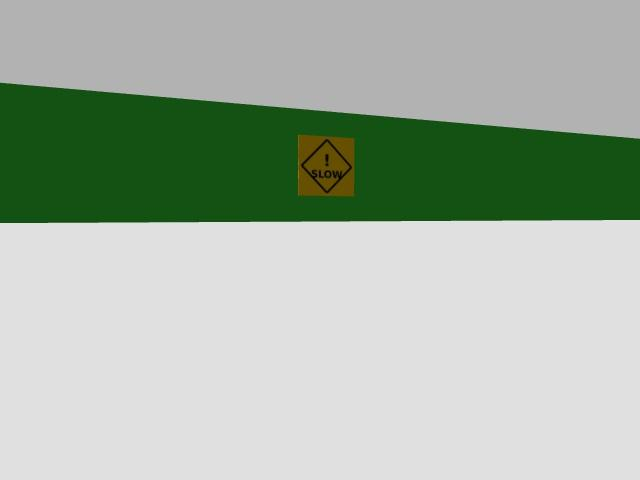slow: (298, 135, 354, 196)
